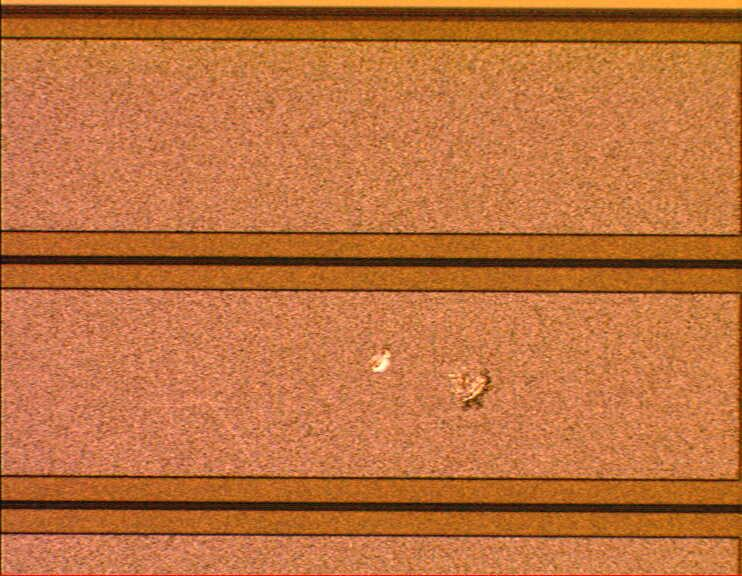SCRATCH: (355, 345, 506, 410)
